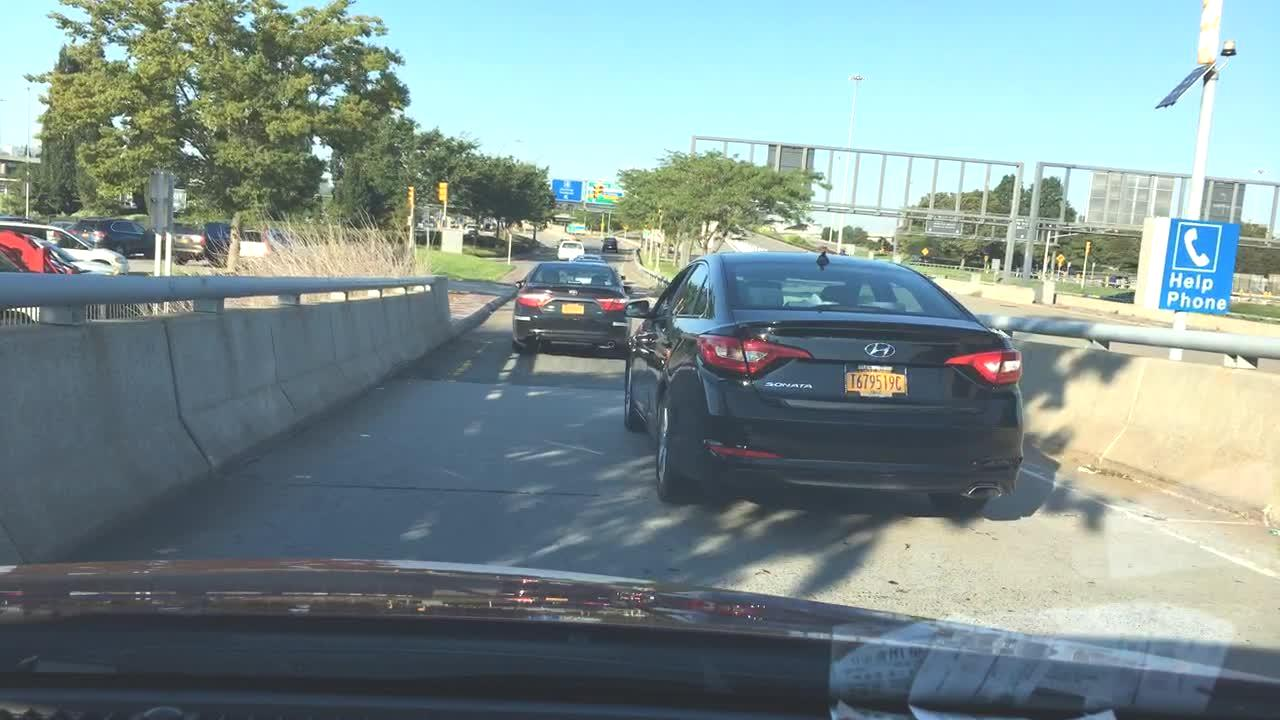Hyundai: (860, 333, 898, 363)
